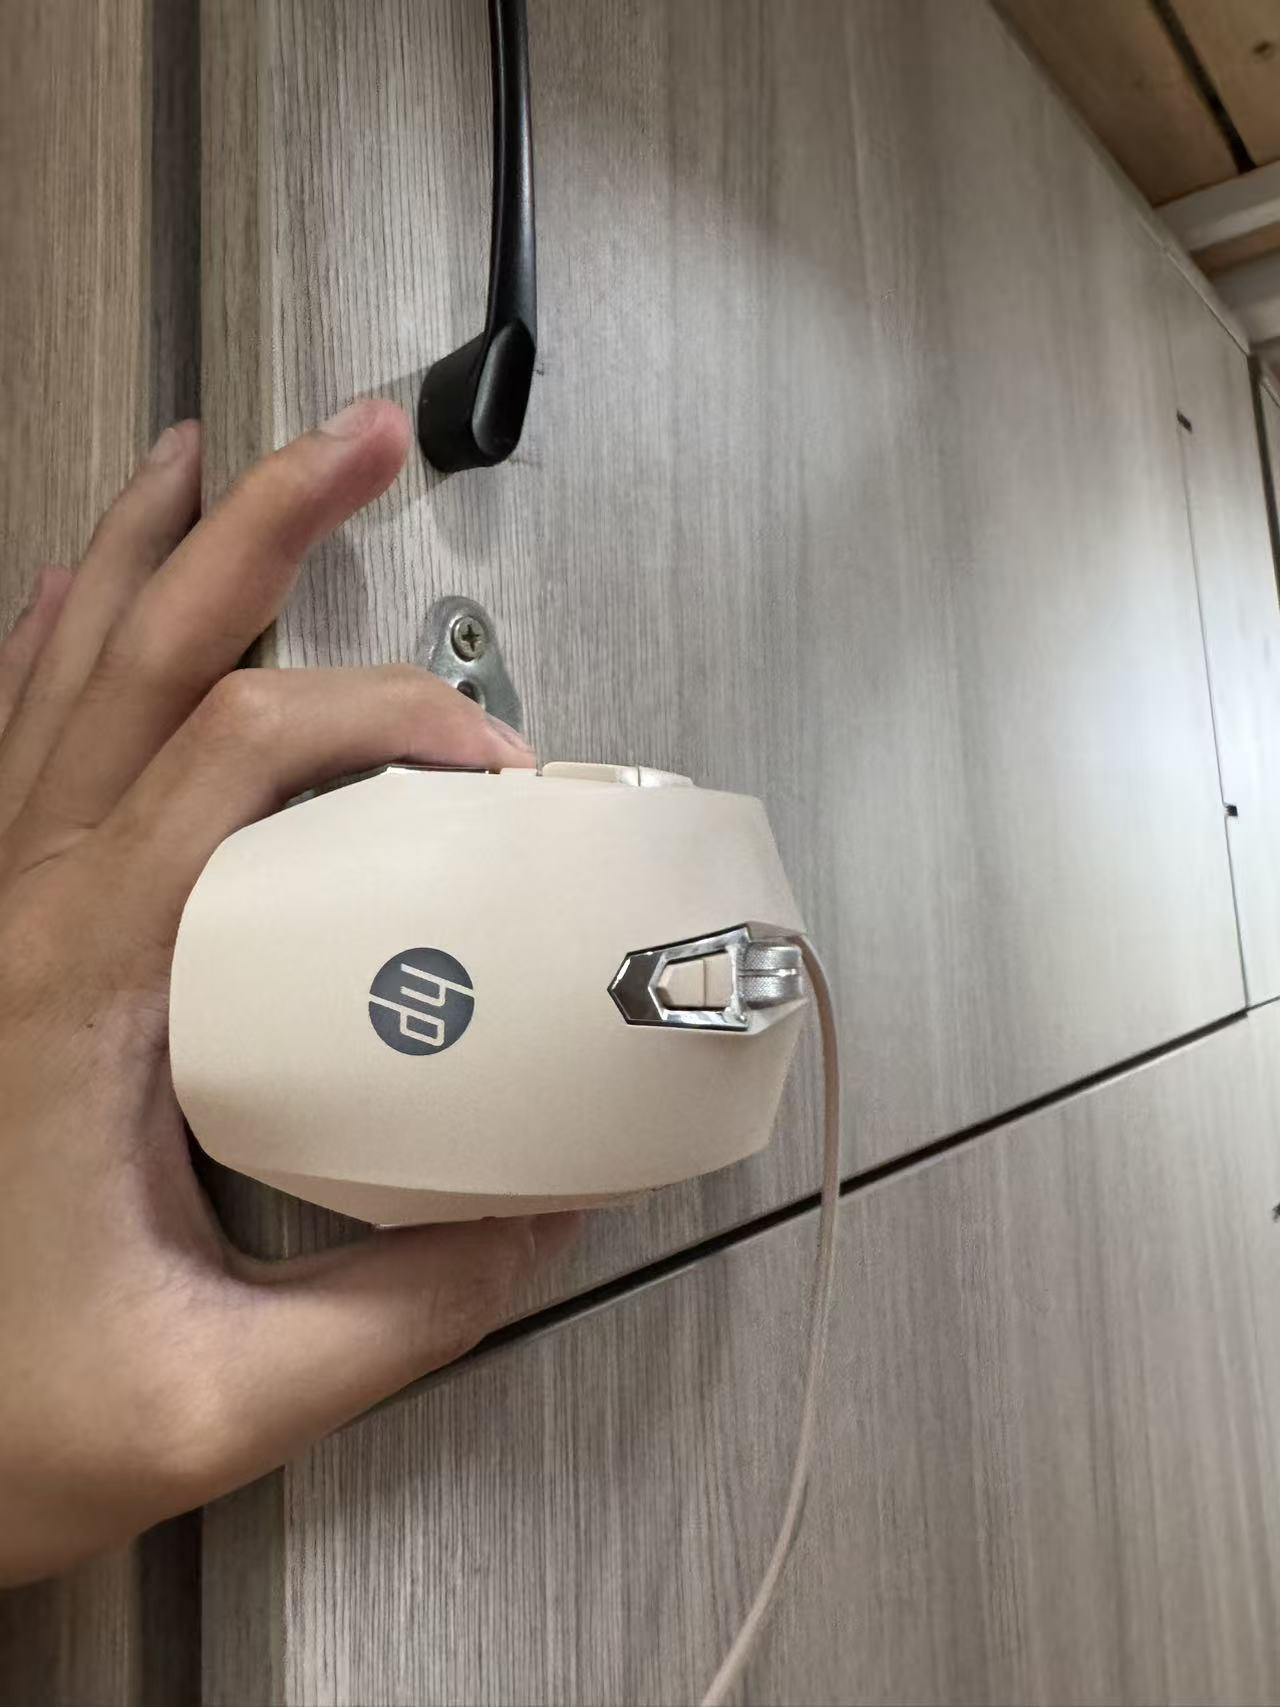mouse: (155, 728, 894, 1241)
